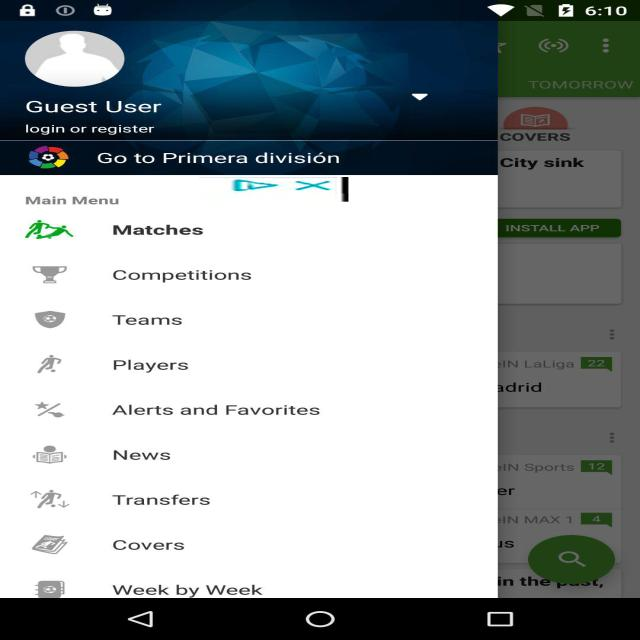sneaking: (199, 177, 349, 202)
